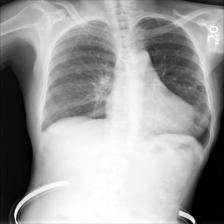normal: (33, 13, 217, 153)
